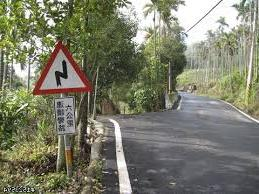double_bend_right: (32, 41, 95, 94)
